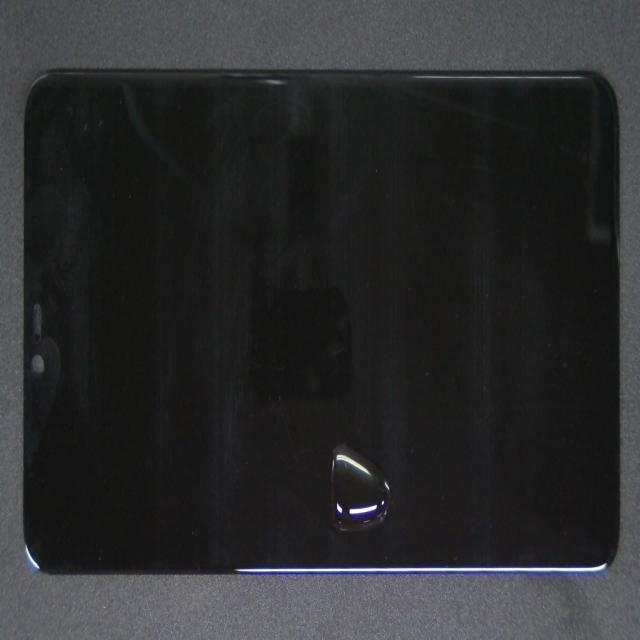oil: (158, 265, 531, 640)
